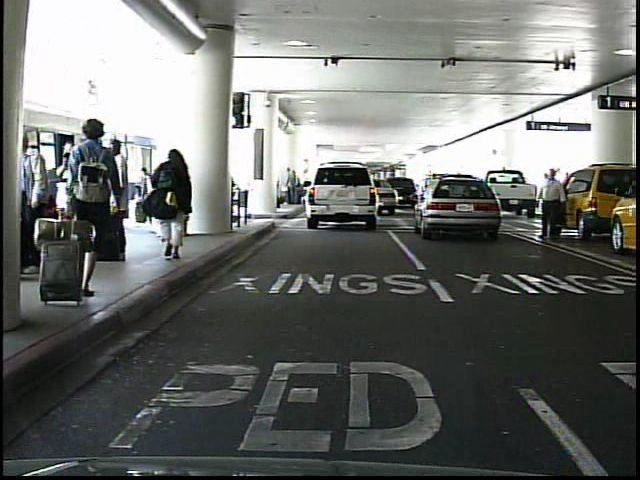person: (67, 112, 123, 308), (148, 144, 194, 269), (98, 137, 136, 268), (21, 126, 54, 275), (538, 167, 566, 245), (166, 157, 191, 236)
